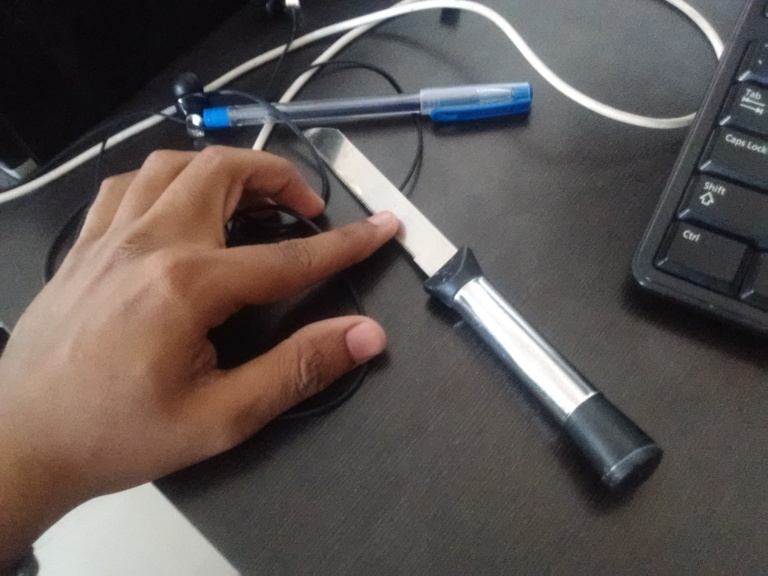knife: (297, 124, 663, 497)
